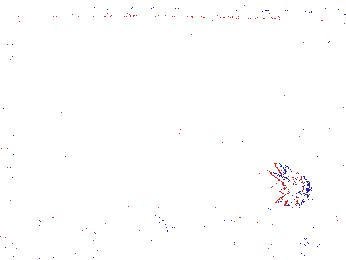flame jellyfish: (164, 130, 227, 216), (47, 147, 109, 214), (266, 162, 331, 221)
